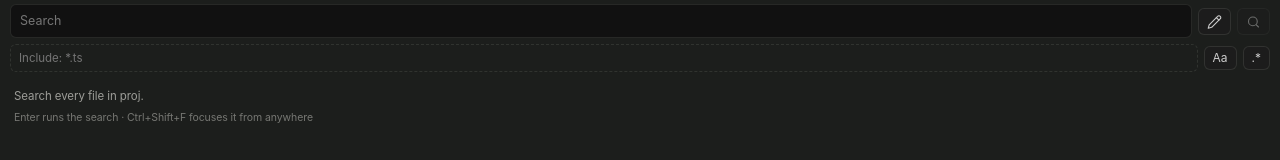
Test: SearchPanel search › a failed search shows the reason instead of an empty list
Type "x" into the field with test id "ws-search-query".
click(601, 21); type("x")  # box 10,4 -> 1192,38
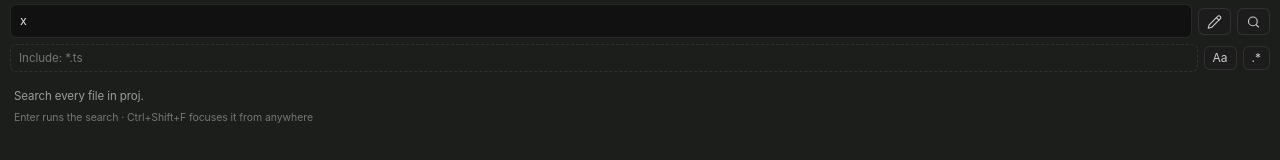
Click the button with test id "ws-search-run".
click(1254, 21)  # box 1237,8 -> 1270,34
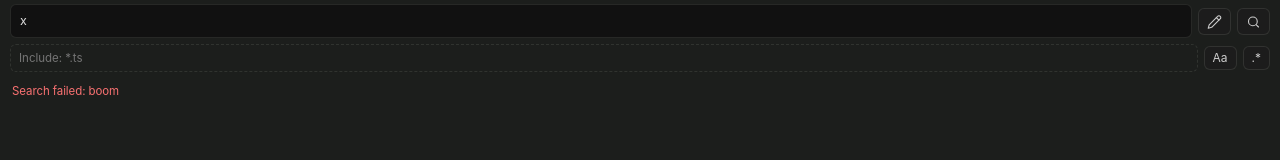
Check: the message shows "boom", box 12,84 -> 119,98
